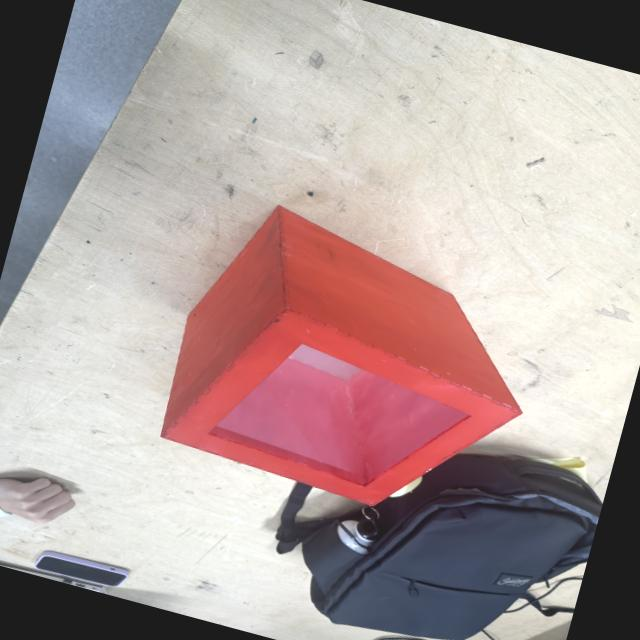red_bin: (152, 189, 558, 538)
